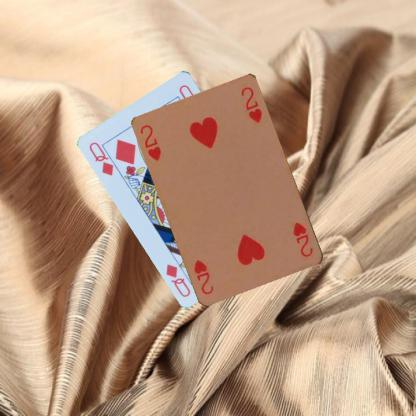2h: (138, 122, 163, 163), (291, 219, 315, 258)
Qd: (86, 140, 122, 178)
